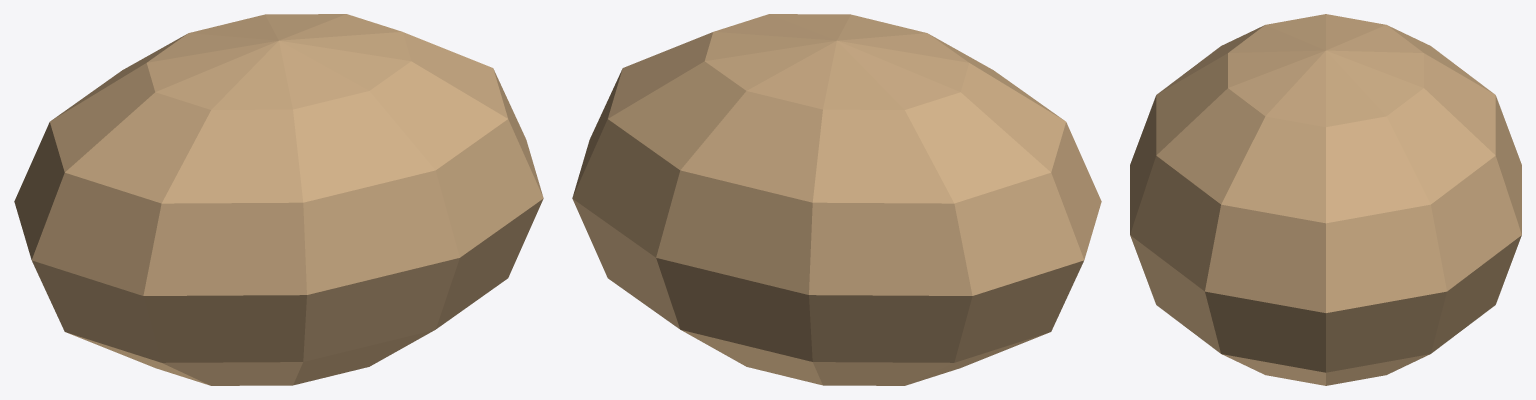
File: supermarket-operations-potato-254288f5.glb
3 renders of one model, left to right at view 1: azimuth 30°, elevation 25°; view 2: azimuth 150°, elevation 25°; view 3: azimuth 270°, elevation 25°, orthographic. The views are drawn at different scales.
Parts seen in each view (by area): view 1: potato; view 2: potato; view 3: potato.
Boxes of the visible parts, x1=… form: potato: x1=14, y1=14, x2=543, y2=385; potato: x1=572, y1=14, x2=1101, y2=385; potato: x1=1130, y1=14, x2=1521, y2=385.
Bounding box in the file's own units: 0.117 × 0.072 × 0.0856.
